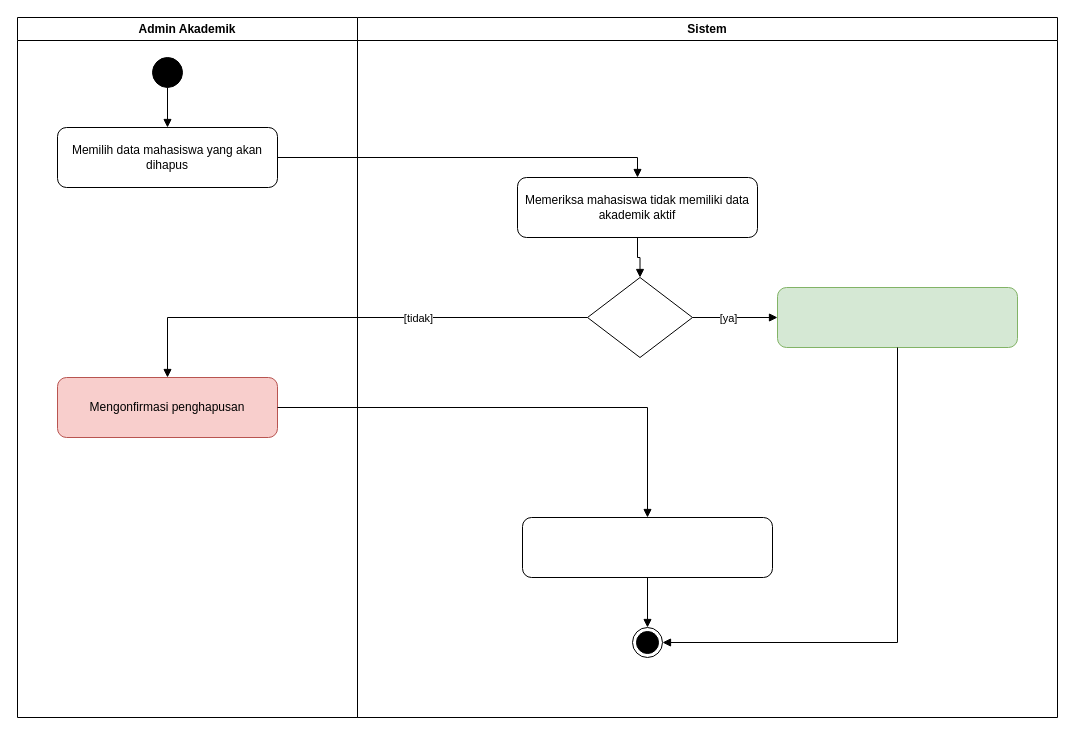
Some shapes in this 1075 by 735 pixel diagram are drawn without their labels. Each missing label, with the centre of its shape:
"memiliki data akademik aktif?" belongs at [639,317].
"Menampilkan pesan masih memiliki data akademik aktif" belongs at [897,317].
"Menghapus data & menampilkan konfirmasi" belongs at [647,547].
